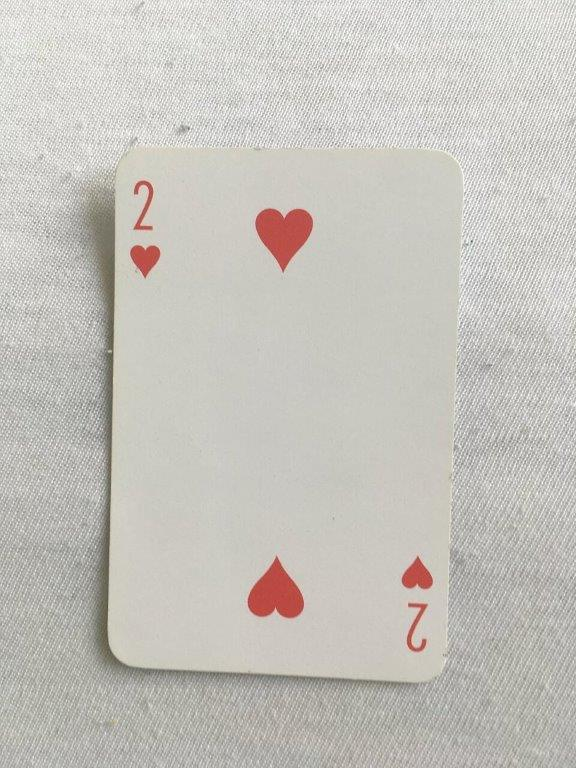2H: (104, 142, 468, 690)
